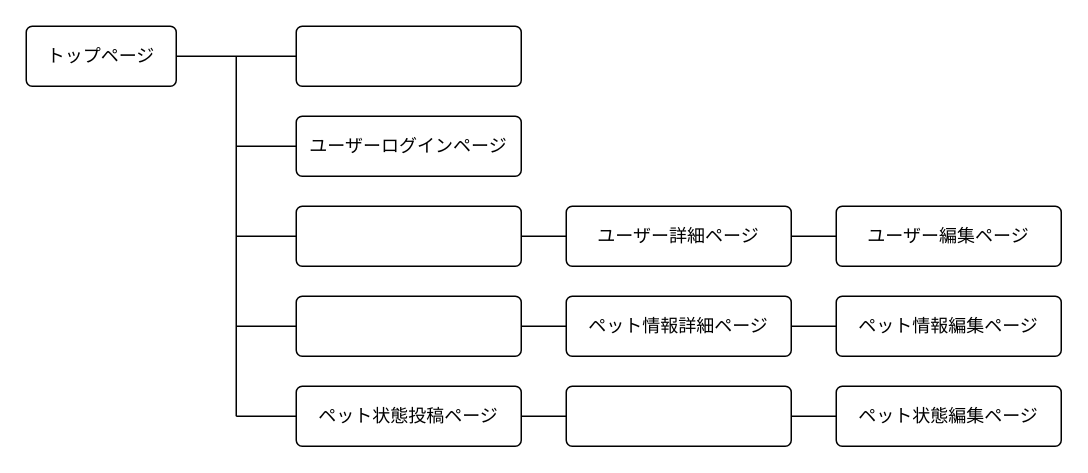
The diagram is 1088 pixels wide and 473 high, and some of its shapes have lost their labels. The centre of each missing label's shape, as x and y in pixels:
"ペット情報登録ページ" belongs at (x=408, y=325).
"ペット状態詳細ページ" belongs at (x=678, y=415).
"マイページ" belongs at (x=408, y=235).
"ユーザー新規登録ページ" belongs at (x=408, y=55).
